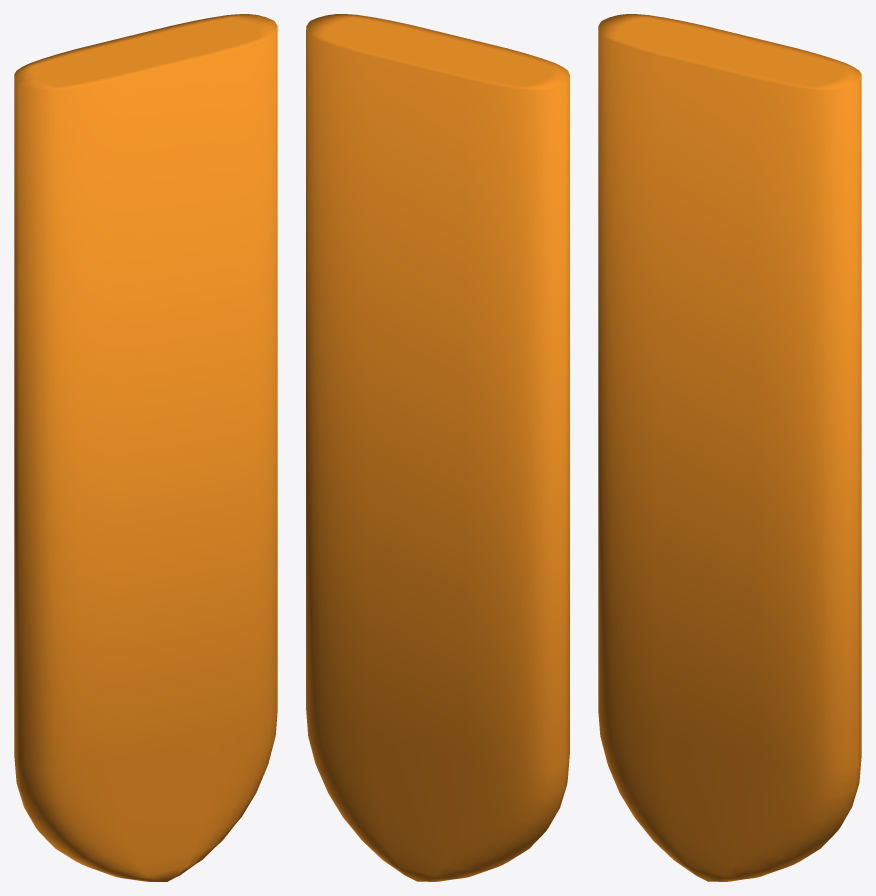
File: stick.fbx
3 renders of one model, left to right at view 1: azimuth 30°, elevation 25°; view 2: azimuth 150°, elevation 25°; view 3: azimuth 330°, elevation 25°, orthographic.
Parts seen in each view (by area): view 1: Cube.004; view 2: Cube.004; view 3: Cube.004.
Boxes of the visible parts, x1=… form: Cube.004: x1=14, y1=14, x2=277, y2=881; Cube.004: x1=306, y1=14, x2=569, y2=881; Cube.004: x1=598, y1=14, x2=861, y2=881.
Bounding box in the file's own units: 1400 × 4252 × 399.
